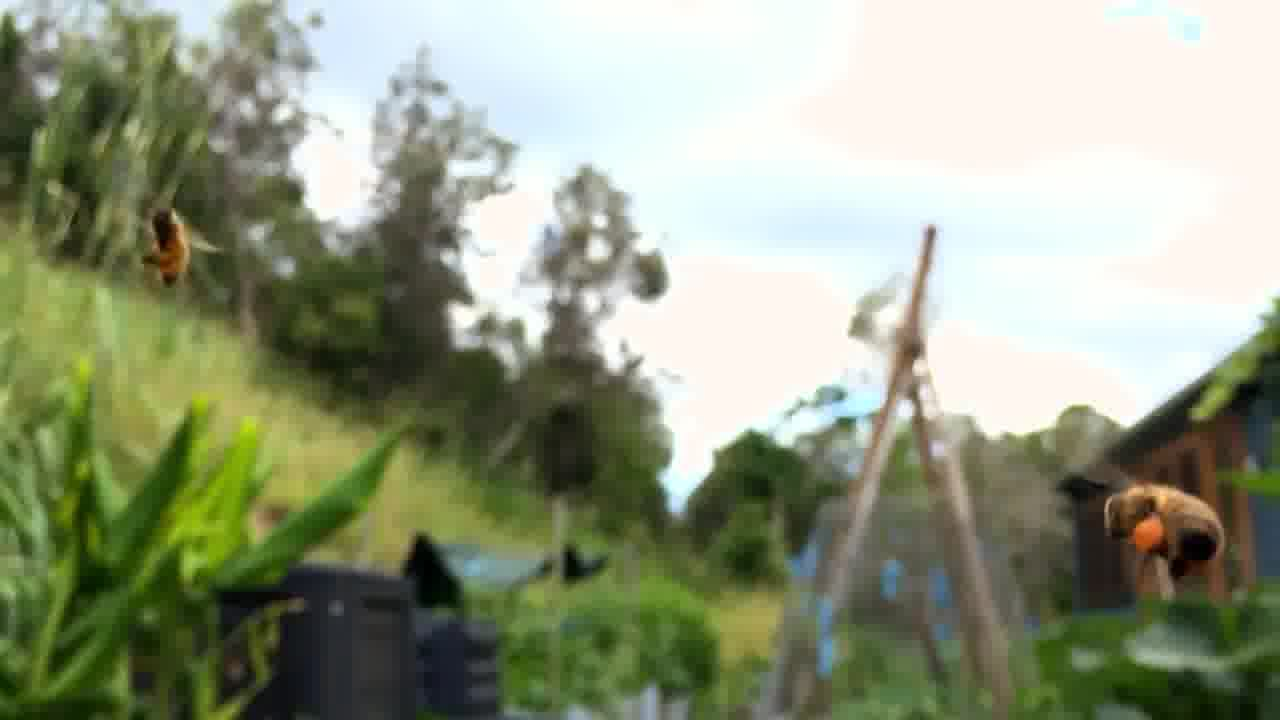pollen: (1092, 479, 1226, 573)
